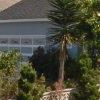Palm tree: (37, 1, 85, 84)
